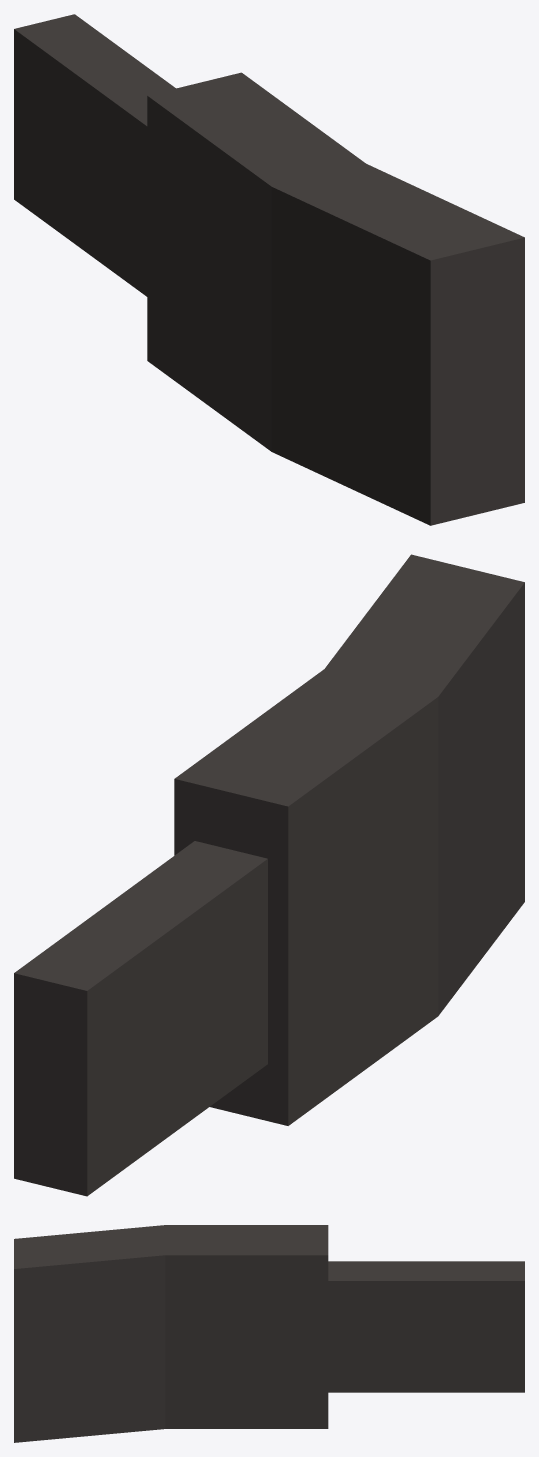
The model's file is SMG5_03_3.fbx.
The picture shows the model from 3 angles, top to bottom: view 1: azimuth 30°, elevation 25°; view 2: azimuth 150°, elevation 25°; view 3: azimuth 270°, elevation 25°; orthographic projection. The views are drawn at different scales.
Visible parts, largest first — view 1: SMG5_03_3; view 2: SMG5_03_3; view 3: SMG5_03_3.
Part boxes in pixels (x1=…): SMG5_03_3: x1=14, y1=14, x2=524, y2=525; SMG5_03_3: x1=14, y1=554, x2=524, y2=1196; SMG5_03_3: x1=14, y1=1225, x2=524, y2=1442.
Bounding box in the file's own units: 0.00558 × 0.0103 × 0.0273.
